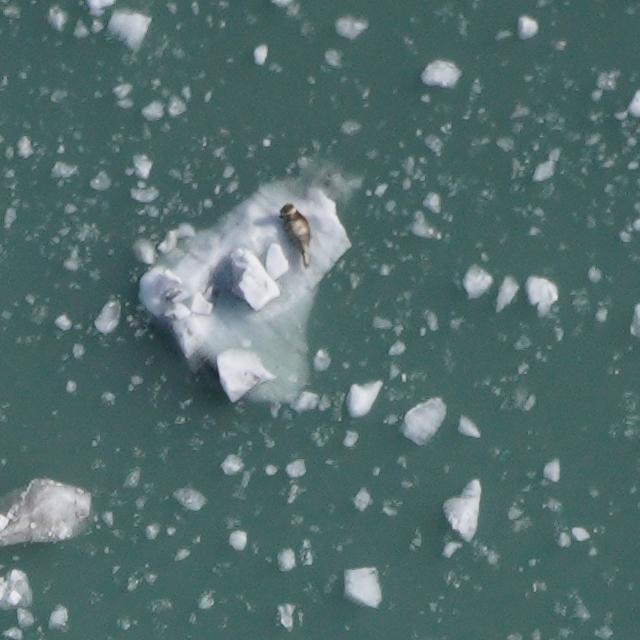seal: (276, 201, 315, 273)
